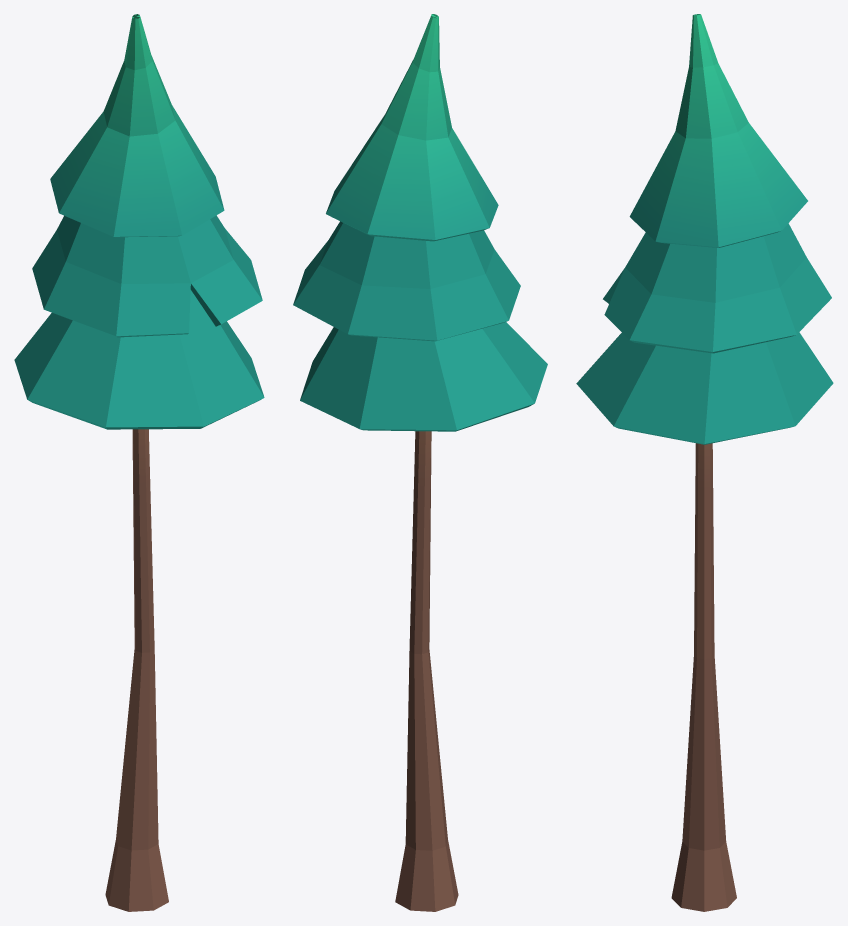
Rendered from tree06.obj.
3 renders of one model, left to right at view 1: azimuth 30°, elevation 25°; view 2: azimuth 150°, elevation 25°; view 3: azimuth 270°, elevation 25°, orthographic.
Visible parts, largest first — view 1: Cylinder.002_Cylinder.031; view 2: Cylinder.002_Cylinder.031; view 3: Cylinder.002_Cylinder.031.
Boxes of the visible parts, x1,y1,x2,y2 form: Cylinder.002_Cylinder.031: (14, 14, 264, 911); Cylinder.002_Cylinder.031: (293, 14, 547, 911); Cylinder.002_Cylinder.031: (576, 14, 833, 911).
Size of the model in its own units: 6.32 by 23.53 by 6.22.
